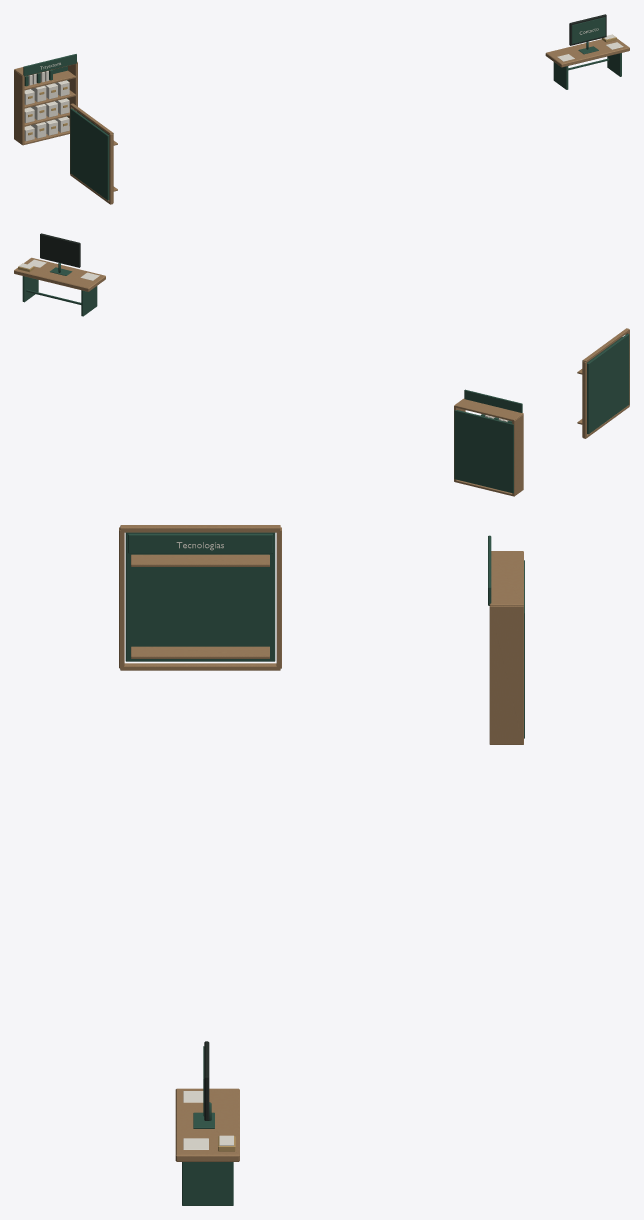
Rendered from workshop-stations-v2.glb.
3 renders of one model, top to bottom at view 1: azimuth 30°, elevation 25°; view 2: azimuth 150°, elevation 25°; view 3: azimuth 270°, elevation 25°, orthographic. The views are drawn at different scales.
Visible parts, largest first — view 1: station__oak, station__greensteel, station__paper, stationhit__contact, stationhit__trajectory, station__graphite; view 2: station__greensteel, station__oak, station__graphite, stationhit__trajectory; view 3: station__oak, station__greensteel, stationhit__technologies.
Part boxes in pixels (x1=…): station__oak: x1=14, y1=38, x2=629, y2=204; station__greensteel: x1=24, y1=41, x2=621, y2=200; station__paper: x1=24, y1=28, x2=623, y2=141; stationhit__contact: x1=572, y1=17, x2=605, y2=43; stationhit__trajectory: x1=23, y1=54, x2=76, y2=76; station__graphite: x1=569, y1=14, x2=606, y2=45; station__greensteel: x1=22, y1=263, x2=629, y2=493; station__oak: x1=14, y1=257, x2=629, y2=496; station__graphite: x1=40, y1=233, x2=80, y2=267; stationhit__trajectory: x1=464, y1=389, x2=522, y2=412; station__oak: x1=119, y1=525, x2=523, y2=1161; station__greensteel: x1=125, y1=532, x2=524, y2=1205; stationhit__technologies: x1=128, y1=533, x2=272, y2=553.
Size of the model in its own units: 16.95 by 2.52 by 5.57.
Materials: 5 (1 with a texture image).
